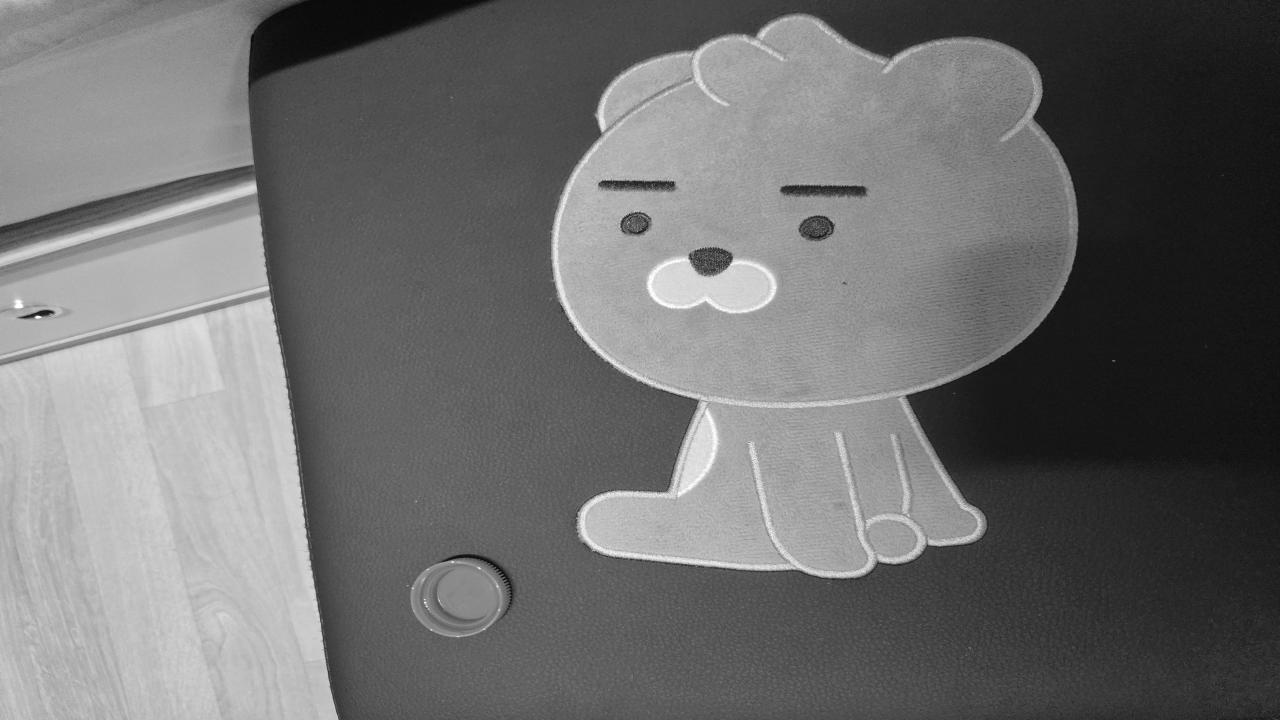bottle_cap: (405, 552, 520, 641)
